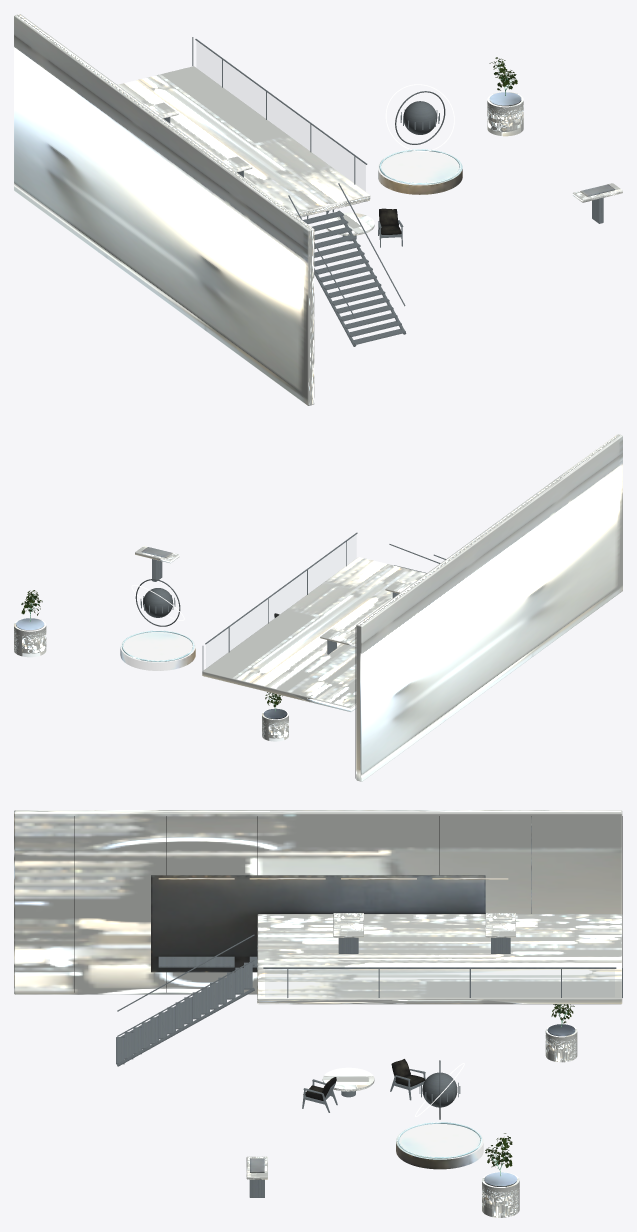
File: top.glb
3 views of the same model, one above another, from view 1: azimuth 30°, elevation 25°; view 2: azimuth 150°, elevation 25°; view 3: azimuth 270°, elevation 25° (orthographic). The views are drawn at different scales.
Parts seen in each view (by area): view 1: Static_top, Float_Core; view 2: Static_top, Float_Core; view 3: Static_top, Float_Core.
Boxes of the visible parts, x1,y1,x2,y2 form: Static_top: (14,14,622,405); Float_Core: (403,101,437,134); Static_top: (14,434,622,781); Float_Core: (143,588,172,617); Static_top: (14,810,622,1217); Float_Core: (422,1072,457,1107).
Size of the model in its own units: 17.61 by 6.64 by 20.02.
11 materials, 5 textured.
